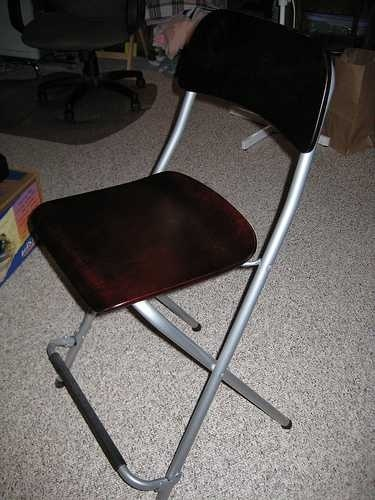obstacle: (30, 10, 334, 499), (0, 170, 41, 283)
